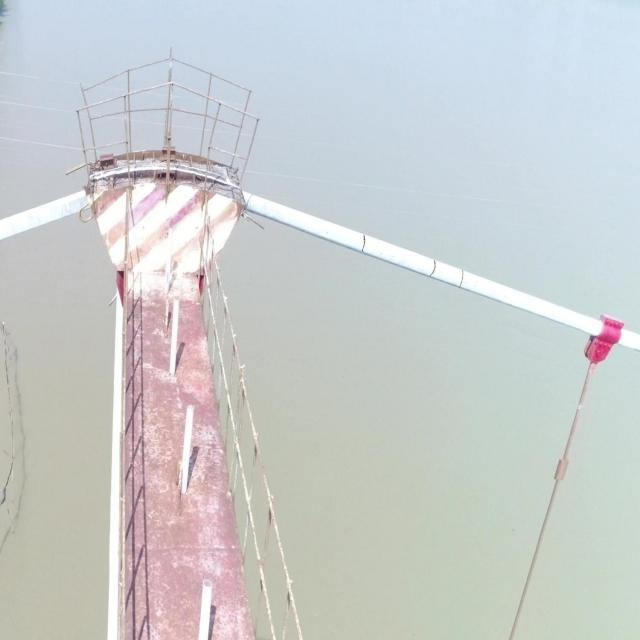crack: (429, 259, 437, 276), (458, 270, 464, 287), (361, 233, 366, 252)
